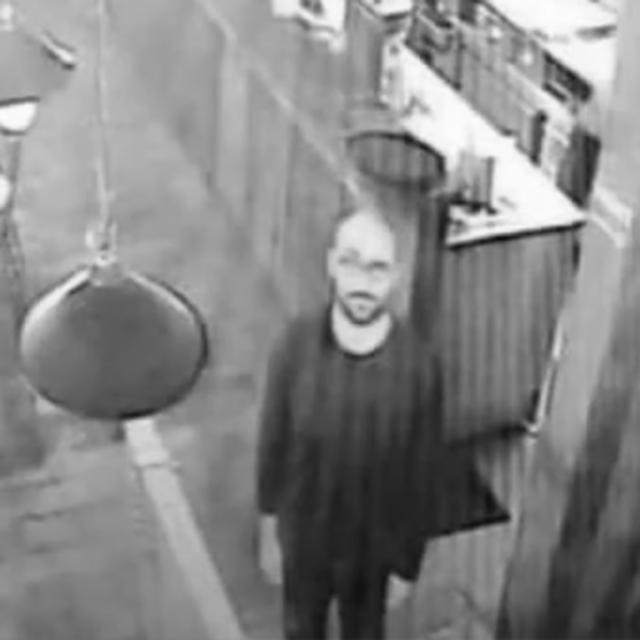Invader: (252, 137, 510, 639)
